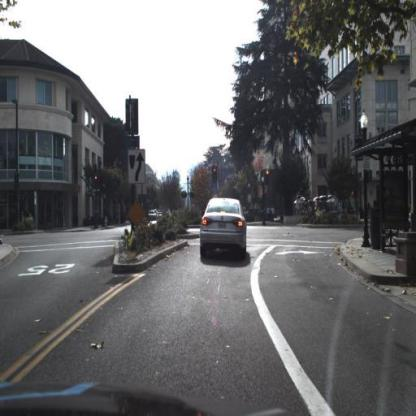car: (200, 200, 246, 261)
trafficLight-Red: (211, 166, 220, 189), (91, 171, 100, 192), (93, 174, 100, 192), (212, 168, 218, 185), (266, 170, 271, 186)
